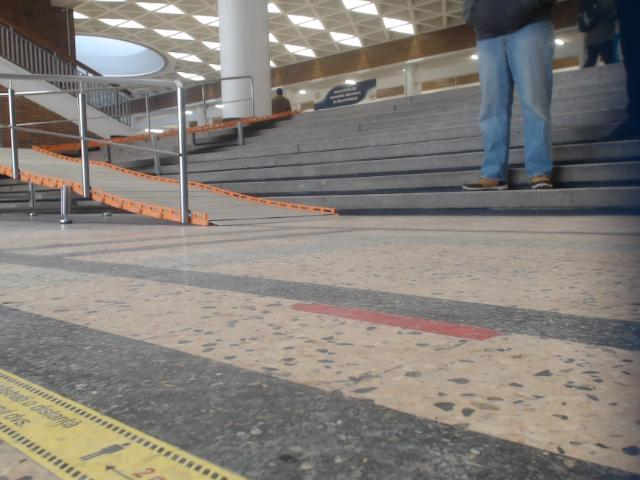rampUp: (185, 182, 333, 224), (85, 161, 181, 222), (19, 148, 81, 195), (0, 148, 12, 175)
ramps-railing: (0, 74, 187, 223), (15, 127, 177, 154), (7, 88, 29, 178)
